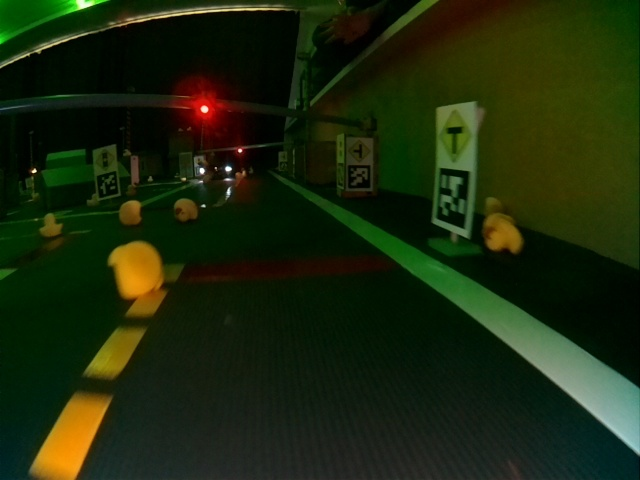Duckie: (107, 242, 163, 296), (484, 217, 524, 253), (40, 213, 64, 237), (173, 198, 197, 222), (118, 201, 140, 225)
Intersection sign: (438, 110, 470, 162), (349, 139, 369, 162)
QR code: (435, 171, 470, 222), (96, 172, 118, 197), (350, 167, 370, 188)
Signal sign: (97, 149, 115, 170)
Traffic light: (194, 92, 215, 117), (236, 145, 244, 154)
